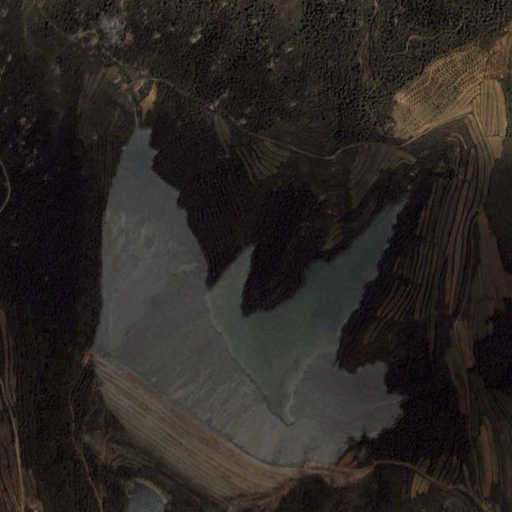tp: (92, 130, 410, 506)
